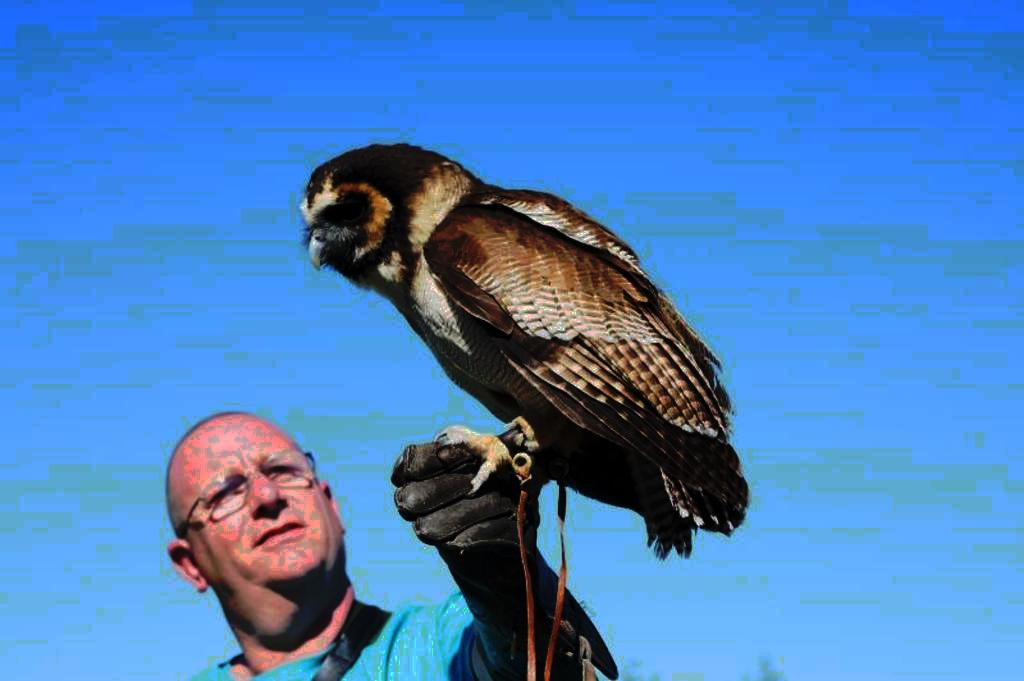Owl: (291, 141, 759, 563)
